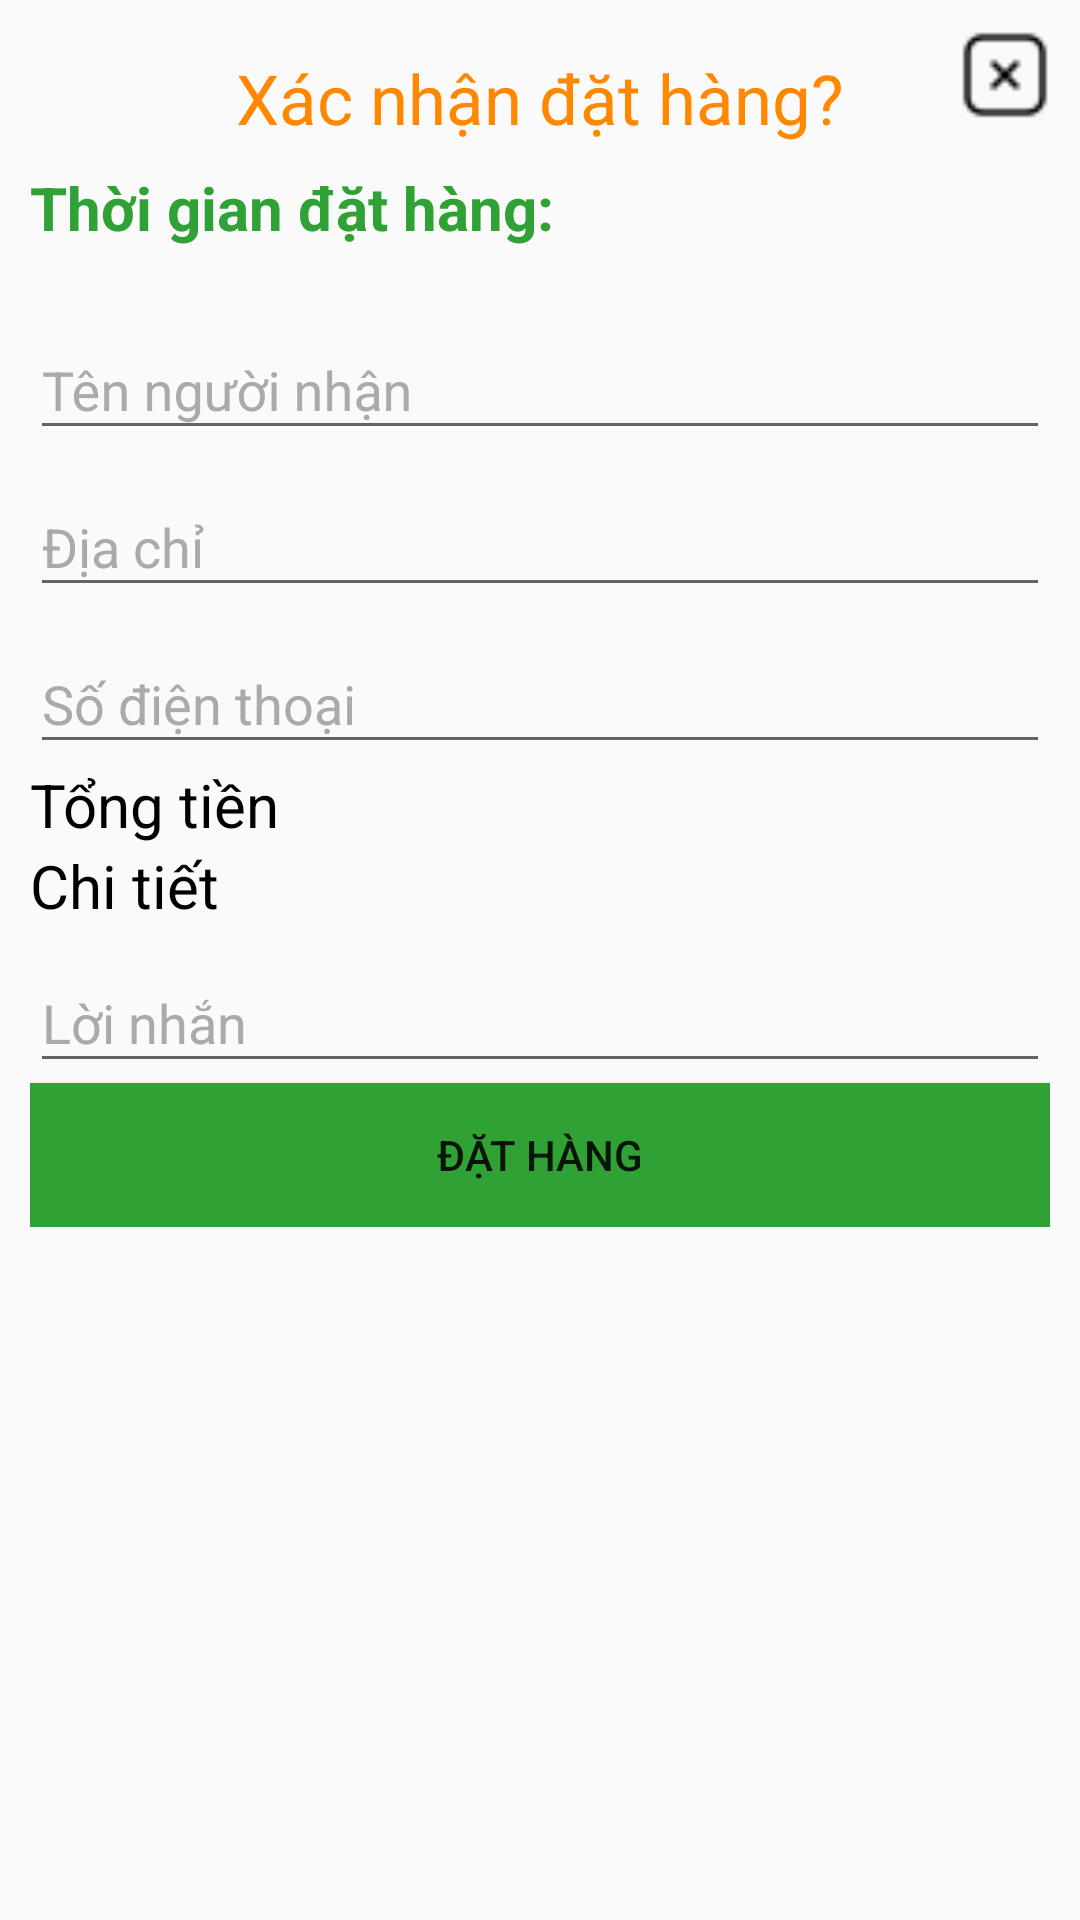

Named icons in this screenshot (1080px x 1920px) and their bounding boxes, Rect(x1, y1, x2, y2):
cross: Rect(962, 32, 1048, 118)
